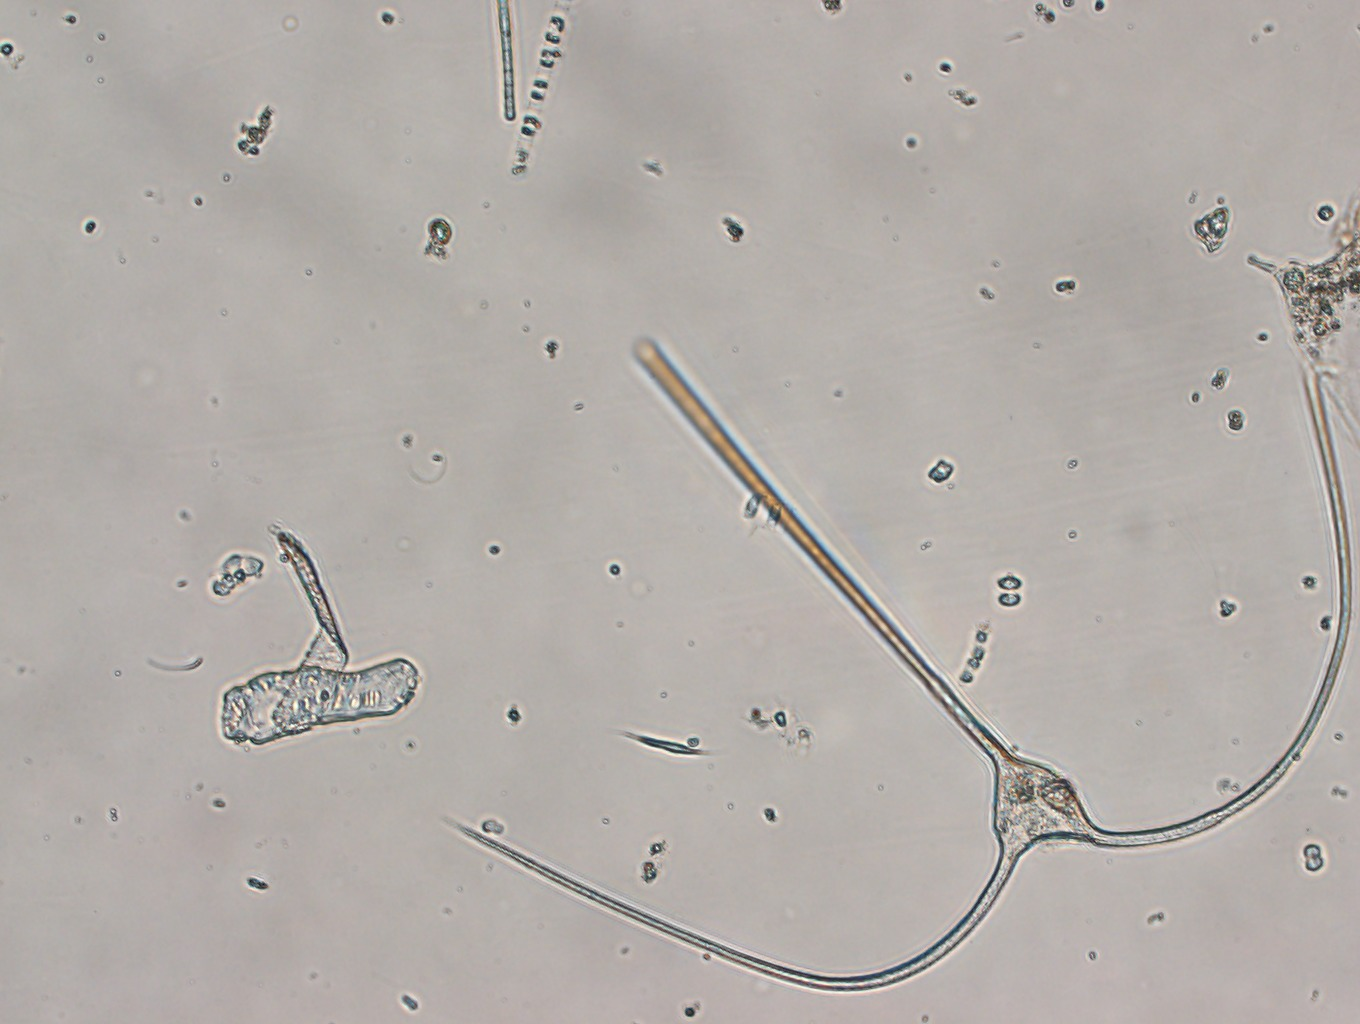ceratium trichoceros: (452, 337, 1352, 993)
skeletonema: (507, 1, 569, 177)
